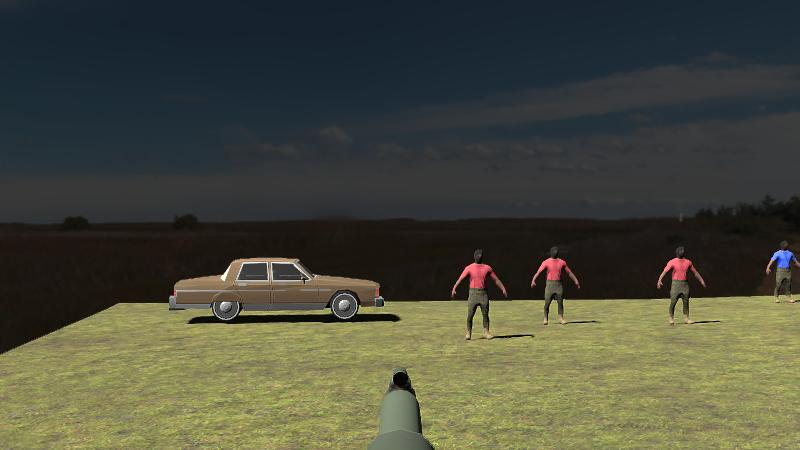Human: (452, 249, 506, 340), (531, 245, 579, 327), (658, 246, 705, 325), (767, 240, 800, 304)
car: (169, 255, 385, 323)
